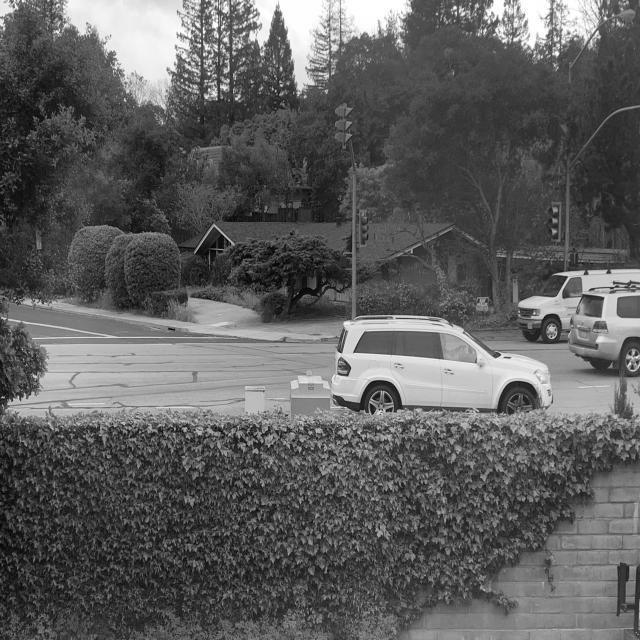SUV: (330, 315, 553, 416)
